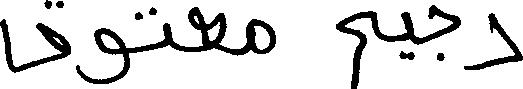X: (0, 0, 68, 77), (465, 8, 522, 74), (336, 6, 375, 88), (94, 23, 129, 88), (428, 0, 458, 65), (189, 2, 225, 56), (247, 14, 274, 58), (401, 7, 413, 64), (163, 18, 171, 51)
